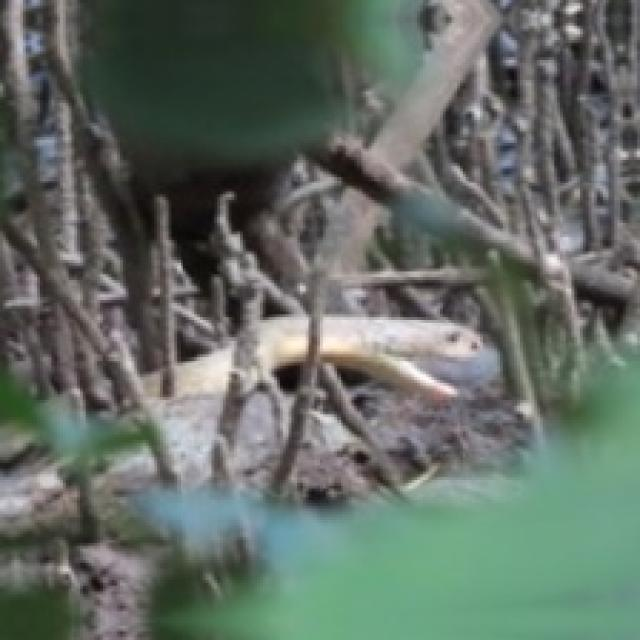king cobra: (323, 314, 497, 403)
